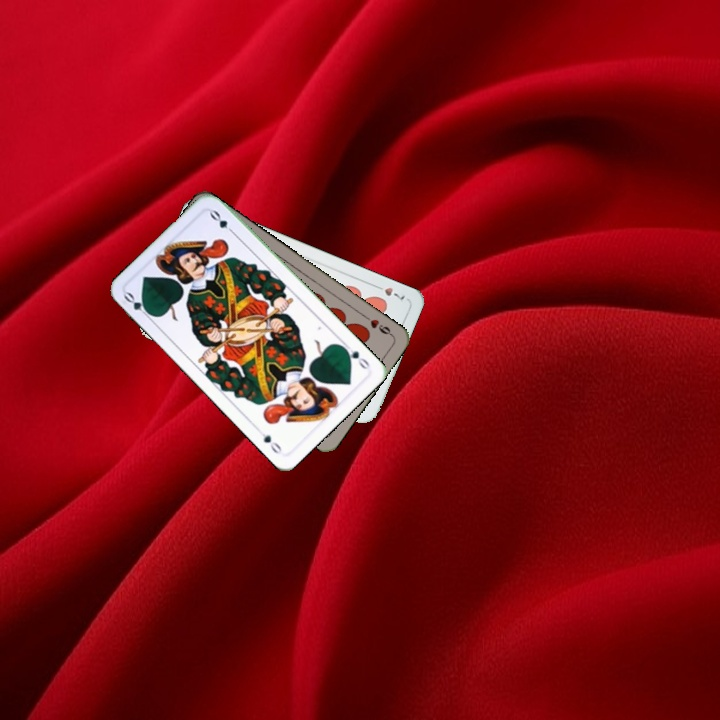GO: (120, 288, 155, 322), (338, 339, 372, 372)
H7: (370, 280, 408, 303)
H9: (359, 311, 395, 339)
